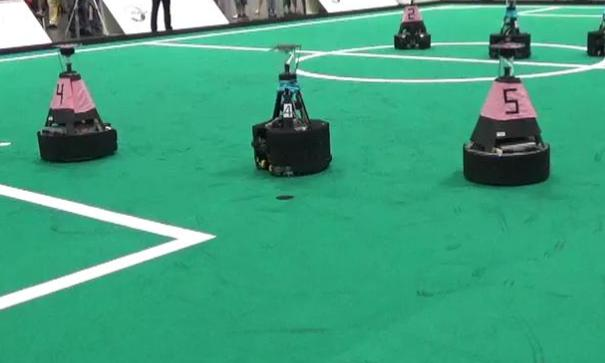robot: (459, 43, 557, 189), (250, 41, 333, 179), (38, 44, 120, 164), (486, 1, 532, 59), (390, 1, 436, 52)
